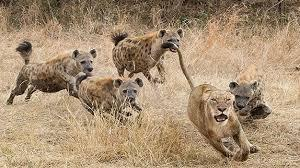hyenas: (8, 22, 105, 81), (67, 80, 156, 130), (108, 25, 194, 61), (234, 78, 298, 109)
lions: (190, 83, 237, 150)
